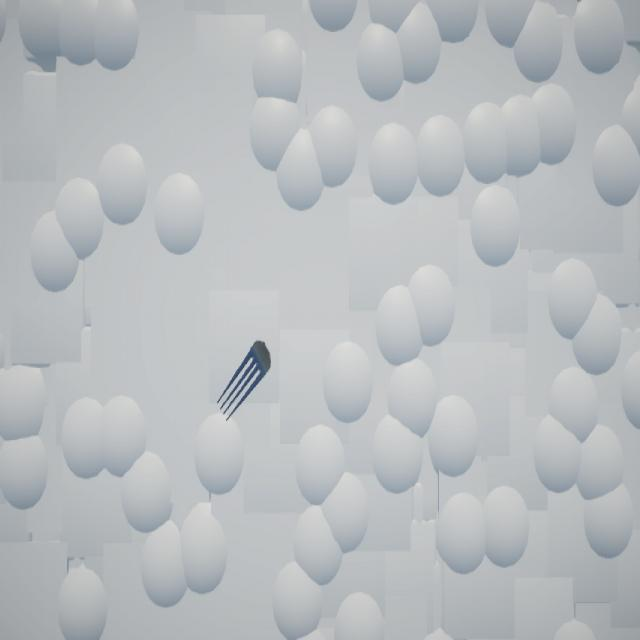top_folk: (218, 341, 272, 422)
